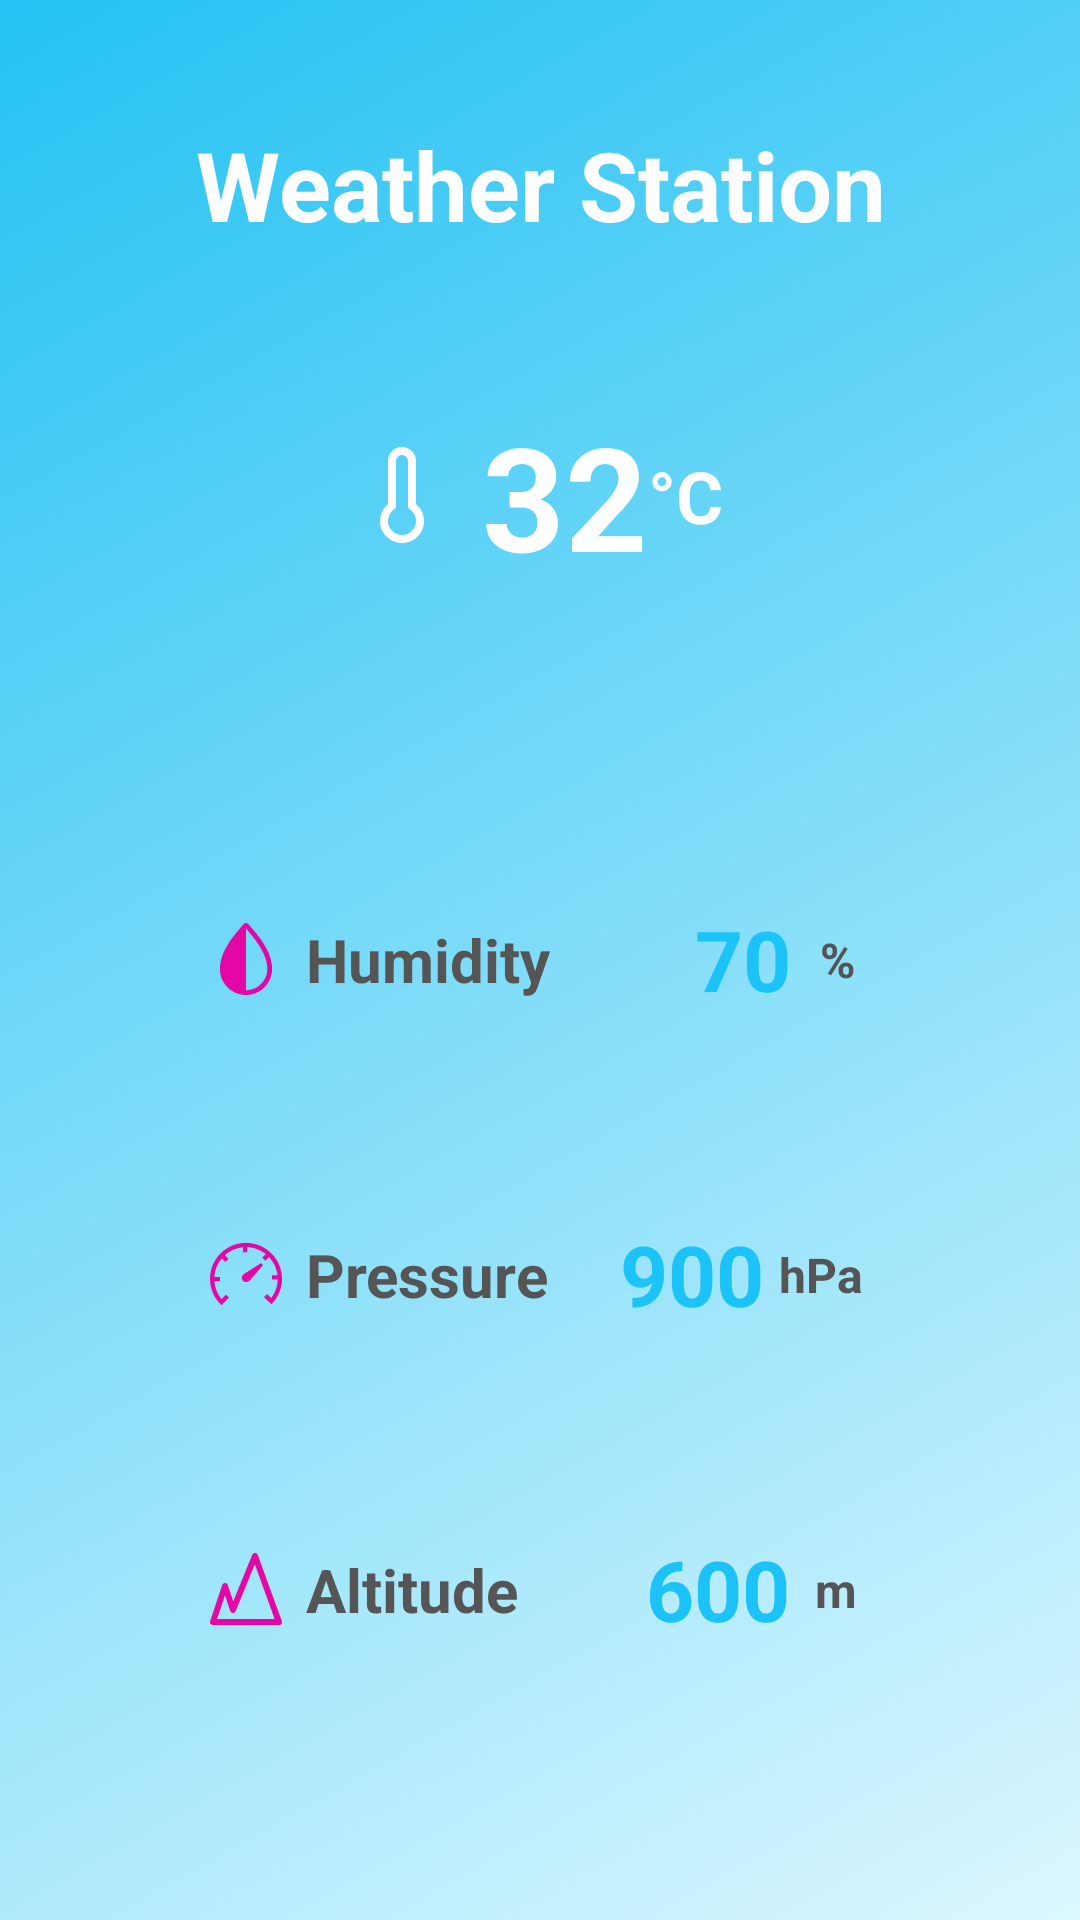

Where to tap for icons on this 1080 × 1920 app screen, as (x=x, y=y):
drop: (x=246, y=959)
meter: (x=246, y=1273)
temperature: (x=402, y=495)
